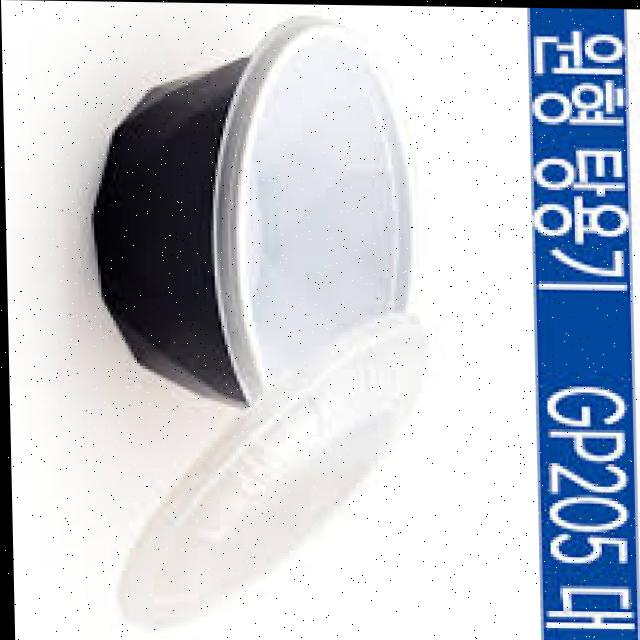disposable: (69, 8, 418, 462)
